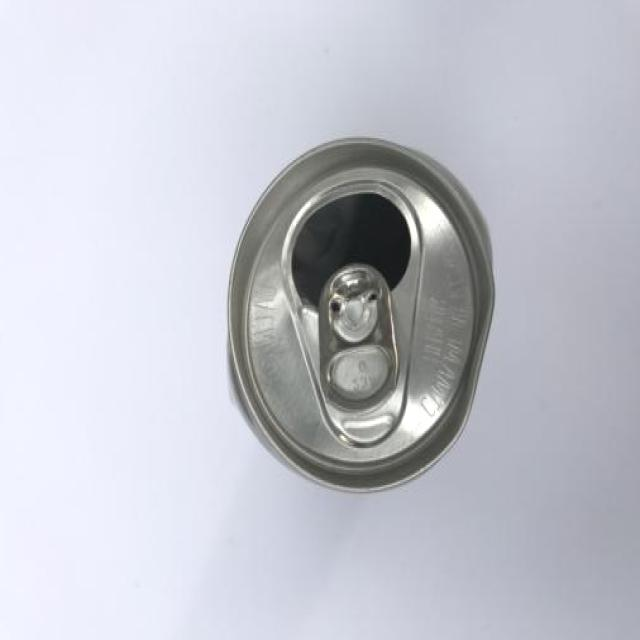kim_loai: (229, 139, 495, 492)
